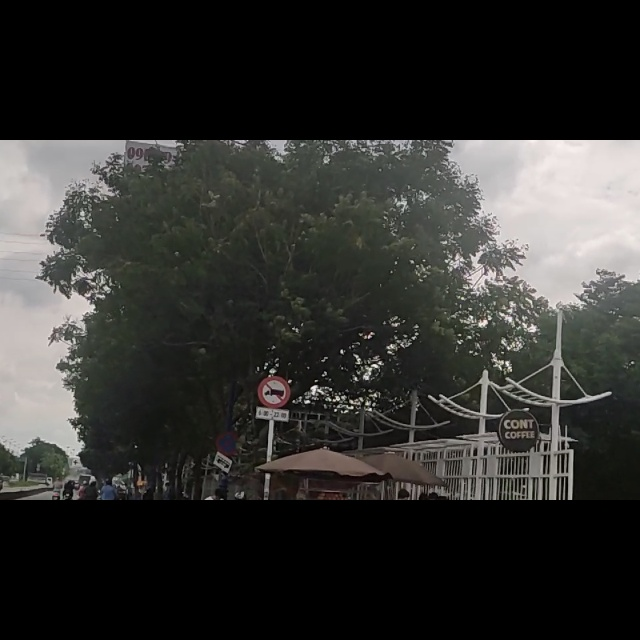bien_cam: (259, 422, 292, 500)
